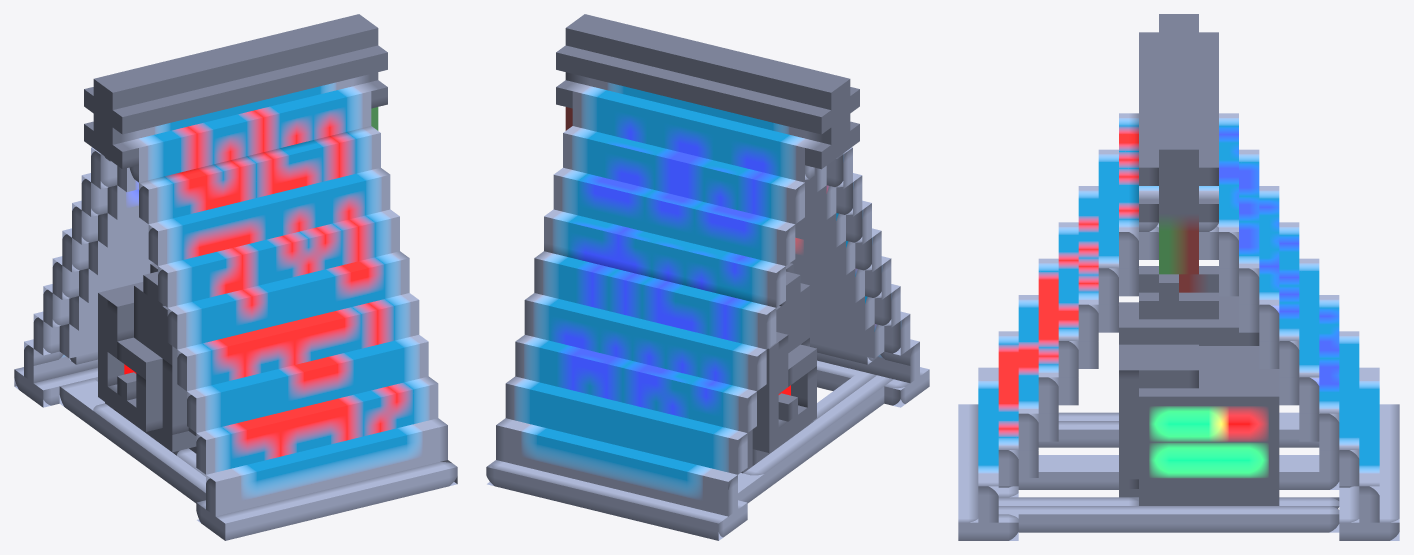
File: znak_stojący.dae
3 views of the same model, side by side, from view 1: azimuth 30°, elevation 25°; view 2: azimuth 150°, elevation 25°; view 3: azimuth 270°, elevation 25° (orthographic). The views are drawn at different scales.
Visible parts, largest first — view 1: Content; view 2: Content; view 3: Content.
Boxes of the visible parts, x1,y1,x2,y2 form: Content: (14,14,457,540); Content: (486,14,929,540); Content: (958,14,1399,540).
Size of the model in its own units: 16 by 22 by 22.
1 material, 1 textured.
